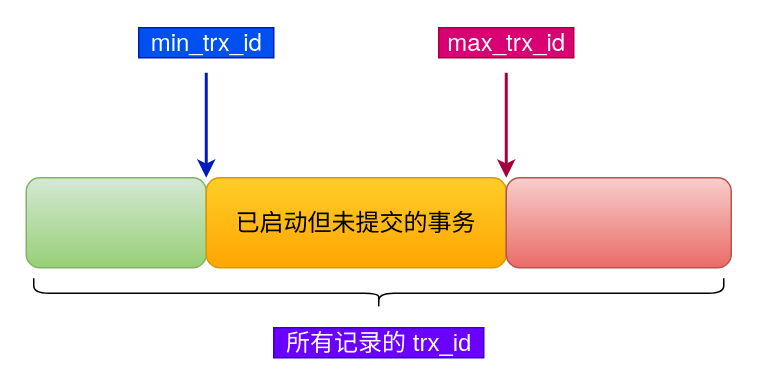
This 758x384 diagram has some shape labels left out. The centre of each missing label's shape, as x and y in pixels:
"已提交事务" belongs at (115,222).
"还没有开始的事务" belongs at (618,222).
